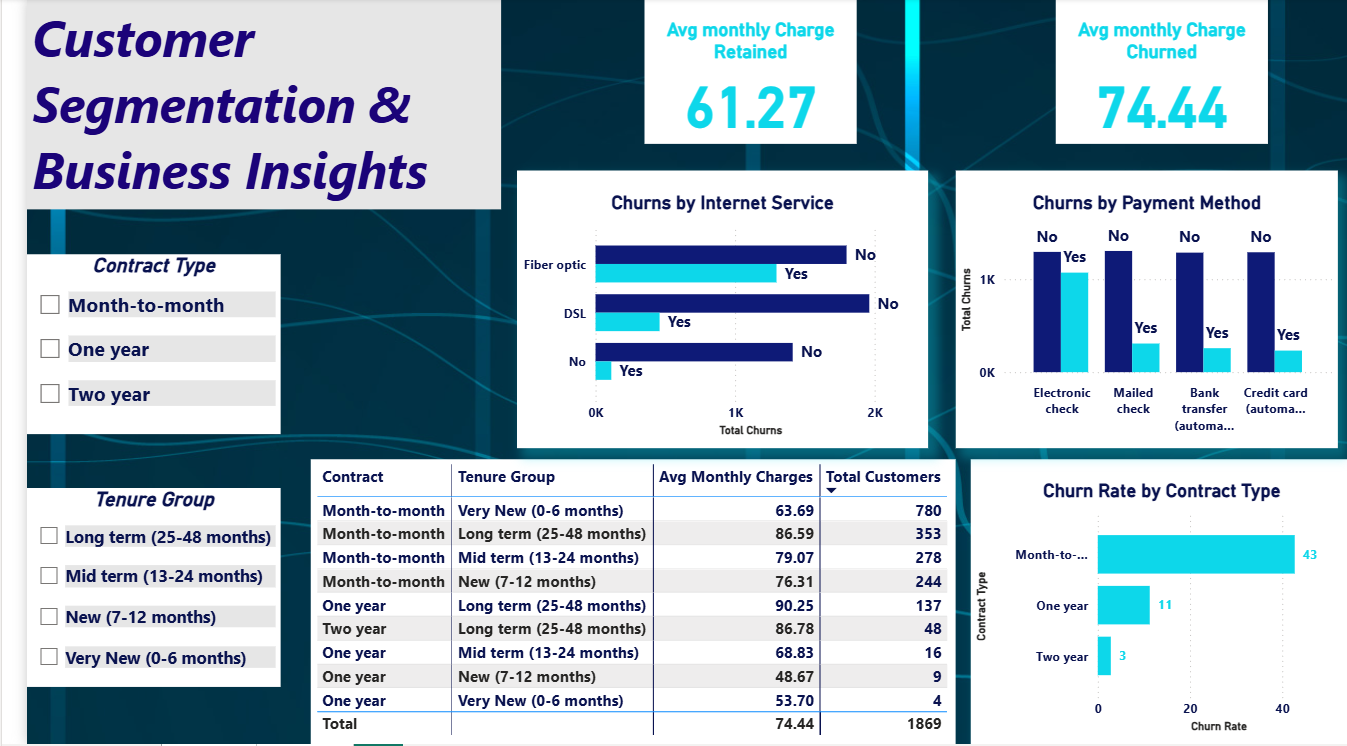

The dashboard page shown, as its layout file describes it:
{"tool":"powerbi","page":{"name":"Page 2","canvas":[1280,720],"ordinal":1},"visuals":[{"type":"tableEx","fields":{"Values":["customer_churn .Contract","customer_churn .Tenure Group","Avg(customer_churn .MonthlyCharges)","customer_churn .customerID"]},"box":[273.9,445.2,622.5,275.1],"z":0},{"type":"actionButton","box":[0,0,100,40],"z":1000},{"type":"card","title":"Avg monthly Charge Churned","fields":{"Values":["customer_churn .avg charges churned"]},"box":[992.9,0,205.1,141.2],"z":2000},{"type":"card","title":"Avg monthly Charge Retained","fields":{"Values":["customer_churn .avg charges retained"]},"box":[596,0,205.1,141.2],"z":3000},{"type":"clusteredBarChart","title":"Churn Rate by Contract Type","fields":{"Category":["customer_churn .Contract"],"Y":["customer_churn .churn rate %"]},"box":[910.9,445.2,369.2,275.1],"z":4000},{"type":"clusteredColumnChart","title":"Churns by Payment Method","fields":{"Category":["customer_churn .PaymentMethod"],"Series":["customer_churn .Churn"],"Y":["CountNonNull(customer_churn .customerID)"]},"box":[896.4,166.5,369.2,267.8],"z":4001},{"type":"clusteredBarChart","title":"Churns by Internet Service","fields":{"Category":["customer_churn .InternetService"],"Series":["customer_churn .Churn"],"Y":["CountNonNull(customer_churn .customerID)"]},"box":[472.9,166.5,396.9,267.8],"z":4002},{"type":"textbox","box":[0,0,457.2,203.9],"z":4003},{"type":"slicer","title":"Tenure Group","fields":{"Values":["customer_churn .Tenure Group"]},"box":[0,472.9,244.9,191.8],"z":4004},{"type":"slicer","title":"Contract Type","fields":{"Values":["customer_churn .Contract"]},"box":[0,247.3,244.9,173.7],"z":4005}]}

Visuals, with their boxes in screenshot pixels (x1, y1, x2, y2), scaled from the page's 1280x720 canvas onto the 1347x746 screenshot:
tableEx - customer_churn .Contract x customer_churn .Tenure Group: (left=288, top=461, right=943, bottom=745)
actionButton: (left=0, top=0, right=105, bottom=41)
"Avg monthly Charge Churned" card: (left=1045, top=0, right=1261, bottom=146)
"Avg monthly Charge Retained" card: (left=627, top=0, right=843, bottom=146)
"Churn Rate by Contract Type" clusteredBarChart: (left=959, top=461, right=1346, bottom=745)
"Churns by Payment Method" clusteredColumnChart: (left=943, top=173, right=1332, bottom=450)
"Churns by Internet Service" clusteredBarChart: (left=498, top=173, right=915, bottom=450)
textbox: (left=0, top=0, right=481, bottom=211)
"Tenure Group" slicer: (left=0, top=490, right=258, bottom=689)
"Contract Type" slicer: (left=0, top=256, right=258, bottom=436)
